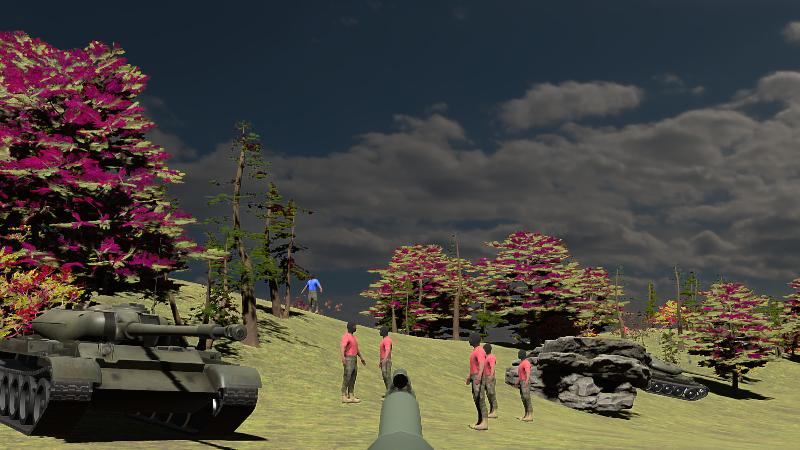Human: (466, 333, 488, 429), (342, 321, 365, 403), (480, 341, 499, 421), (516, 348, 533, 423), (378, 325, 393, 401), (301, 272, 322, 316)
Tank: (0, 298, 261, 439), (622, 355, 721, 402)
